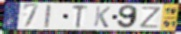7: (21, 3, 40, 30)
9: (117, 4, 141, 30)
I: (43, 4, 53, 29)
K: (93, 6, 112, 29)
T: (72, 4, 90, 29)
Z: (138, 6, 163, 29)
